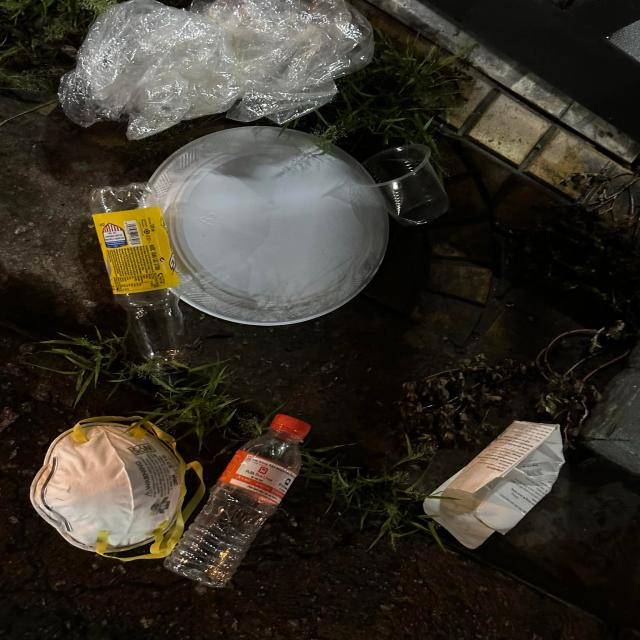bag: (58, 0, 376, 141)
bottle: (164, 414, 312, 588), (90, 182, 188, 384)
cardboard box: (423, 420, 566, 549)
mask: (29, 416, 206, 561)
plastic glass: (350, 143, 450, 226)
plastic holder: (138, 126, 390, 326)
